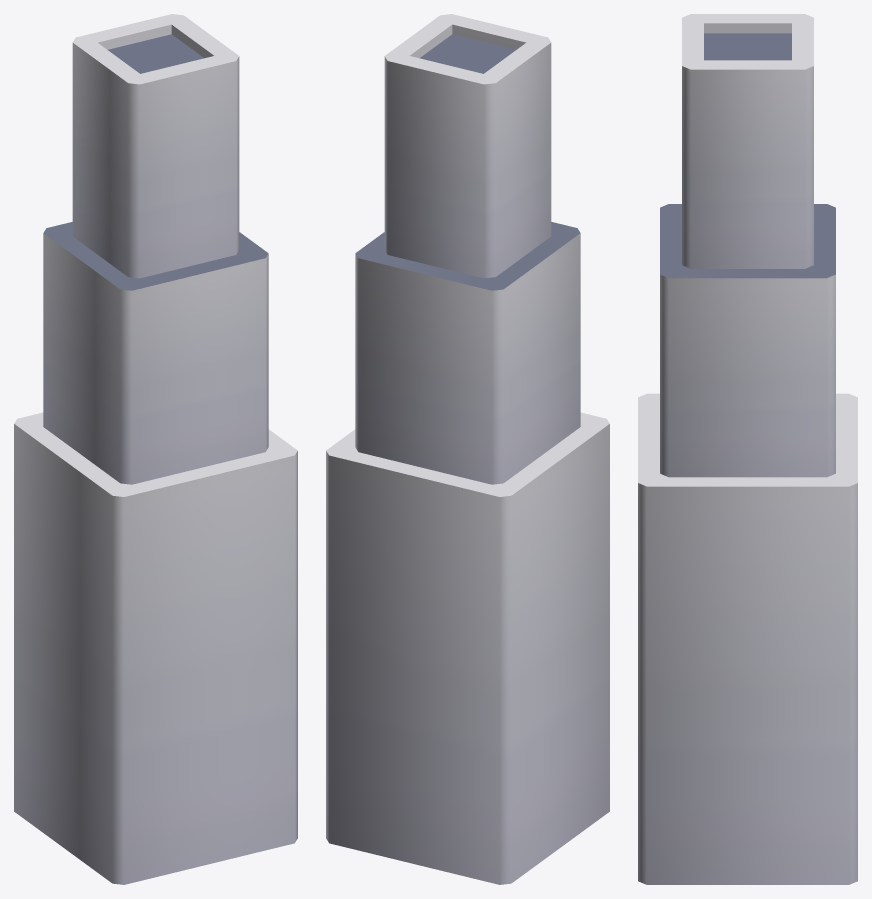
Rendered from low-detail-building-f.glb.
The picture shows the model from 3 angles, left to right: view 1: azimuth 30°, elevation 25°; view 2: azimuth 150°, elevation 25°; view 3: azimuth 270°, elevation 25°; orthographic projection. The views are drawn at different scales.
Parts seen in each view (by area): view 1: low-detail-building-f; view 2: low-detail-building-f; view 3: low-detail-building-f.
Part boxes in pixels (<box>): low-detail-building-f: <box>14,14,297,884</box>; low-detail-building-f: <box>326,14,609,884</box>; low-detail-building-f: <box>638,14,857,884</box>.
Size of the model in its own units: 0.5 by 2 by 0.5.
1 material, 1 textured.
